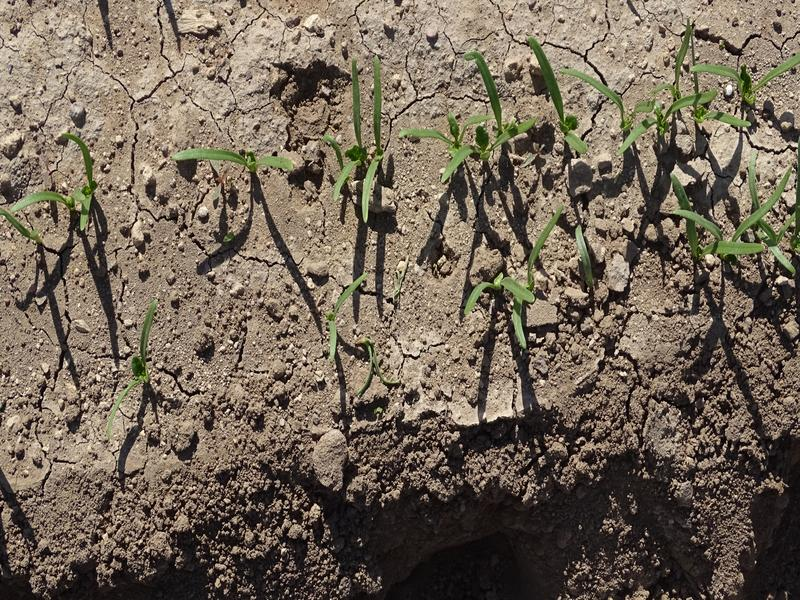Espinaca: (440, 39, 791, 175), (448, 203, 569, 346), (667, 164, 800, 268), (330, 53, 388, 223), (101, 297, 161, 433), (19, 130, 95, 234), (321, 270, 373, 362), (173, 147, 295, 173)
